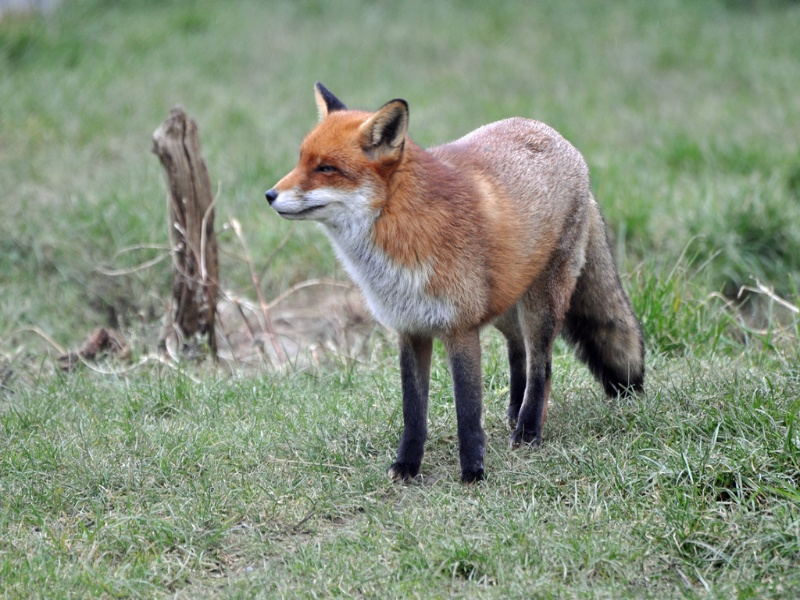fox: (257, 77, 657, 512)
